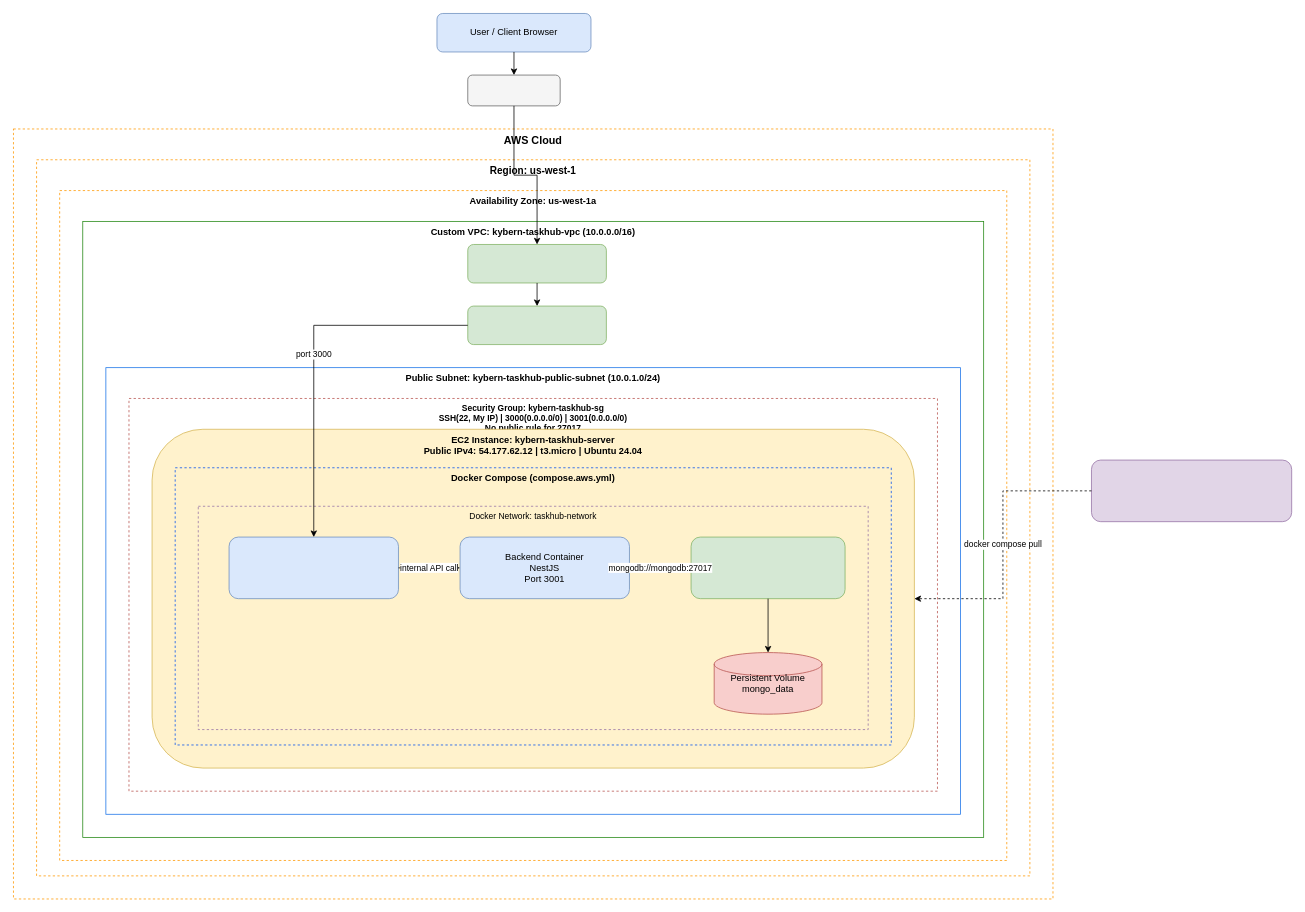
The diagram is 1305 pixels wide and 912 high, and some of its shapes have lost their labels. Here are the shapes that lost their labels. From the top down, the centre of each, then its label:
[513,90]: Internet
[536,263]: Internet Gateway kybern-taskhub-igw
[536,325]: Public Route Table 0.0.0.0/0 -> IGW
[1191,490]: Docker Hub adekolaleke/taskhub-frontend:v1 adekolaleke/taskhub-backend:latest
[313,567]: Frontend Container Next.js Port 3000
[767,567]: MongoDB Container mongo:7 Internal only (27017)
